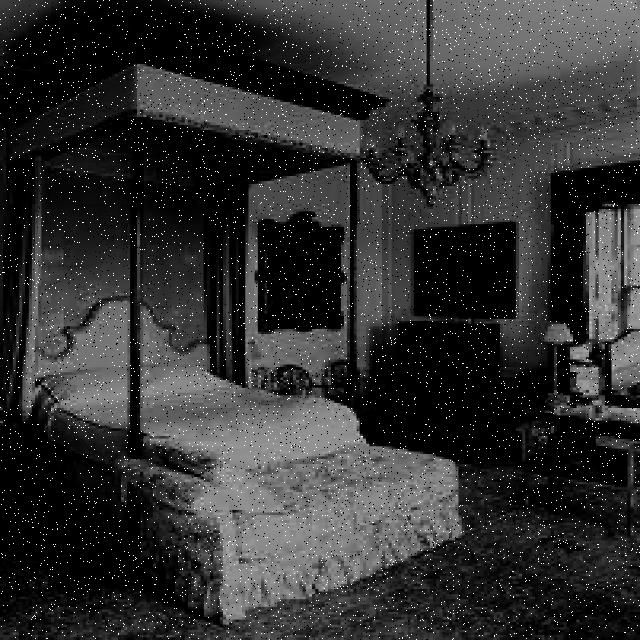bed: (36, 327, 392, 487)
